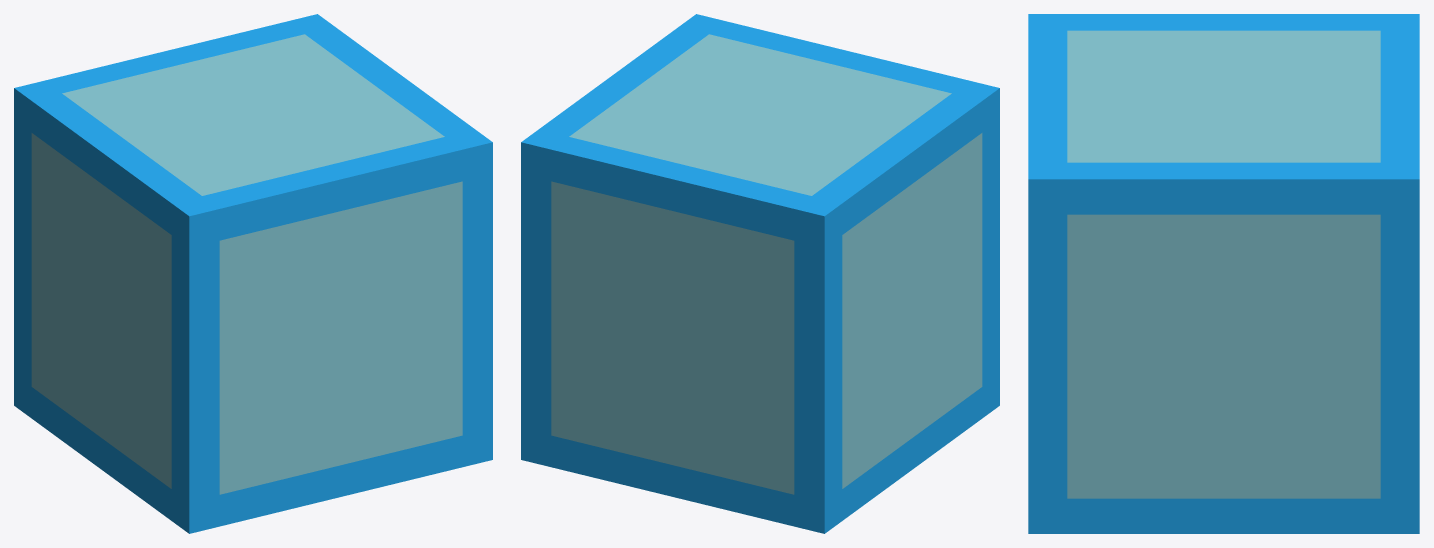
Rendered from Box_Basic_Small.obj.
3 views of the same model, side by side, from view 1: azimuth 30°, elevation 25°; view 2: azimuth 150°, elevation 25°; view 3: azimuth 270°, elevation 25° (orthographic). The views are drawn at different scales.
Size of the model in its own units: 10 by 10 by 10.
1 material, 1 textured.
